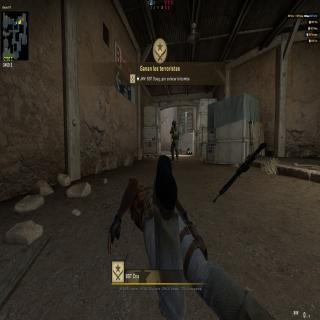CT-Head: (172, 119, 177, 126)
